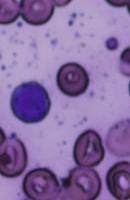L: (11, 80, 52, 123)
